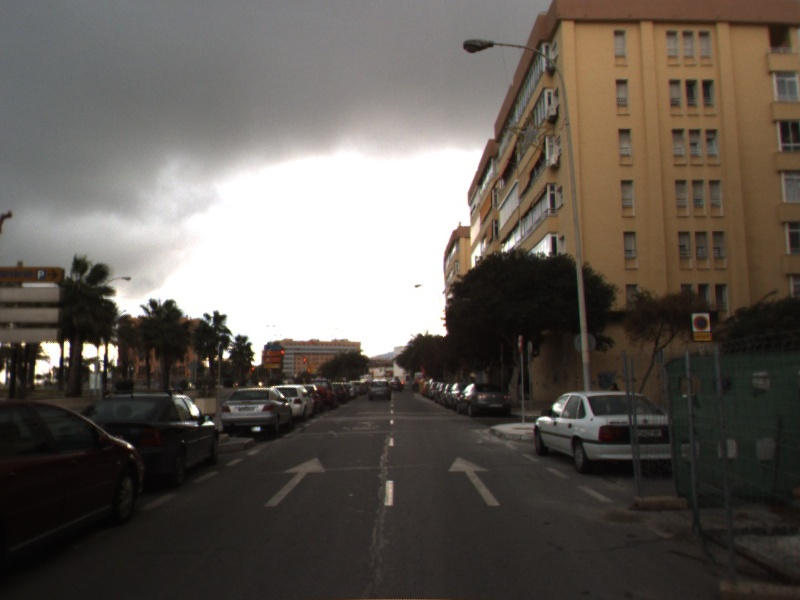STRAIGHT: (262, 455, 328, 509), (446, 454, 503, 508)
